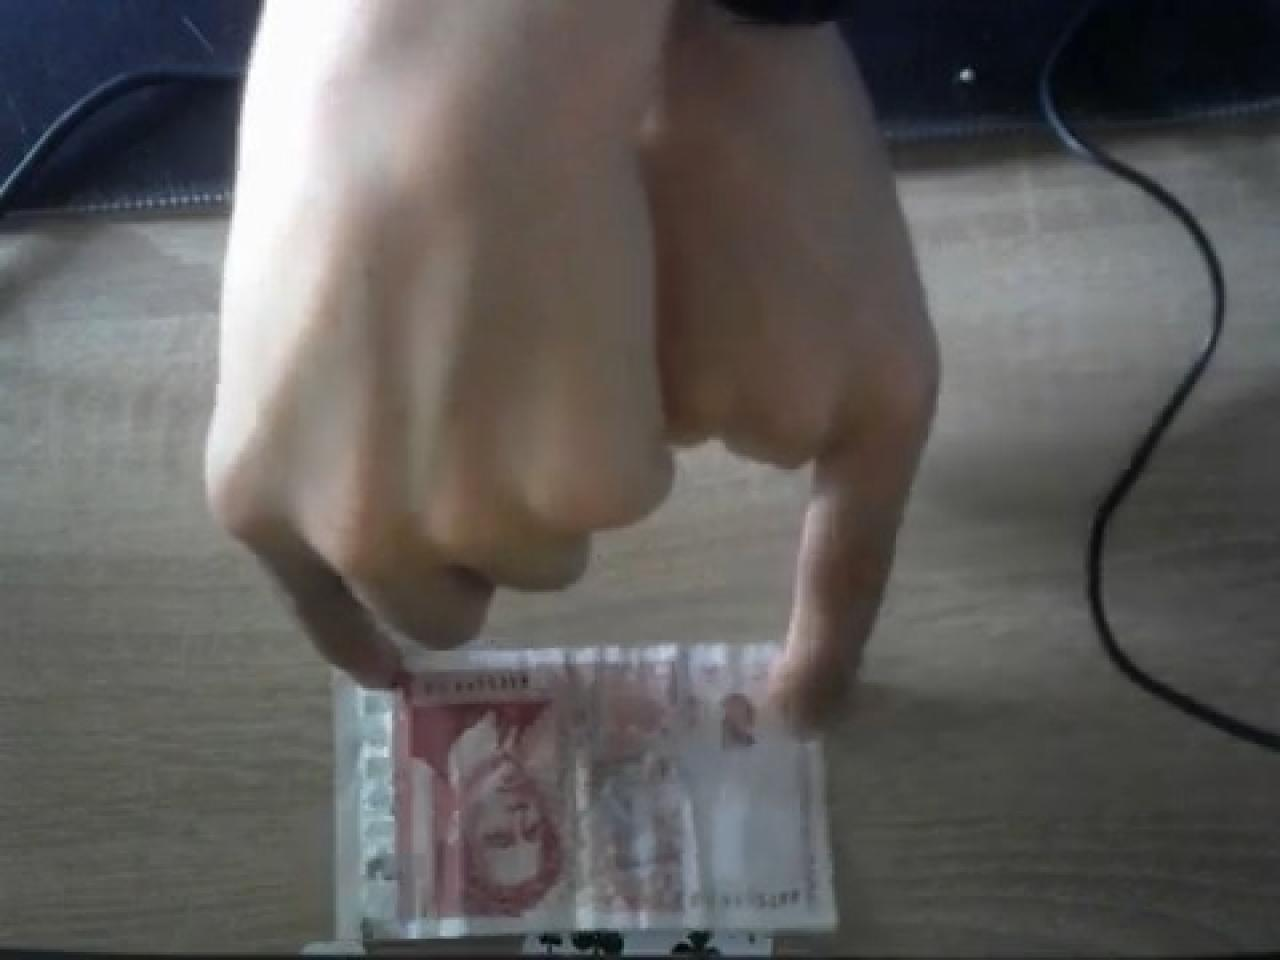5leva: (339, 637, 840, 947)
